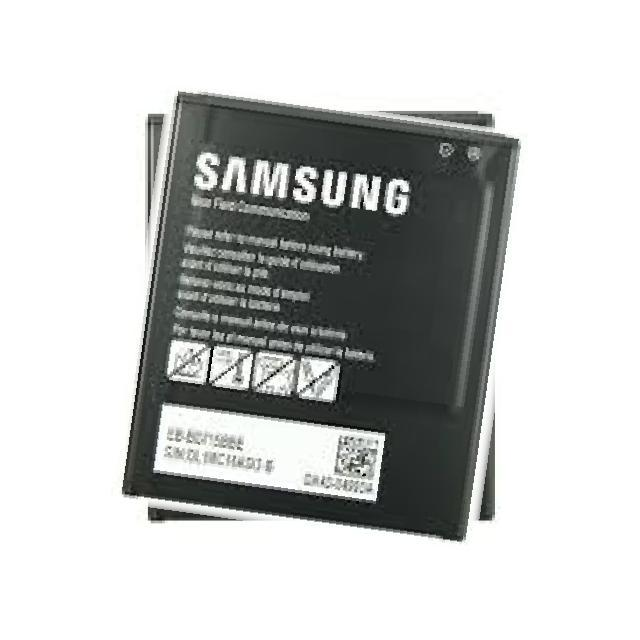Battery: (97, 75, 528, 557)
